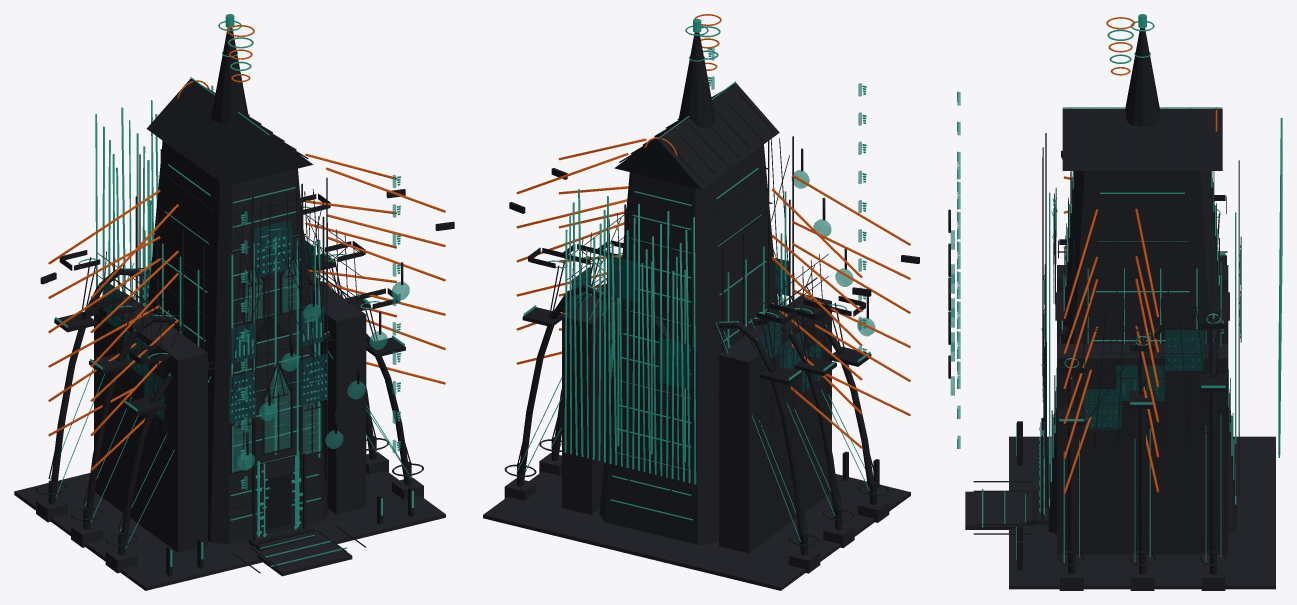
The model's file is analytics-ext-v2-draft-s75.glb.
3 renders of one model, left to right at view 1: azimuth 30°, elevation 25°; view 2: azimuth 150°, elevation 25°; view 3: azimuth 270°, elevation 25°, orthographic. The views are drawn at different scales.
Parts seen in each view (by area): view 1: analytics_ext_base_packed, analytics_s75_detail_combined_mesh, analytics_s75_emissive_combined_mesh, analytics_ext_glass_packed, analytics_s75_energy_combined_mesh, analytics_s75_holo_combined_mesh; view 2: analytics_ext_base_packed, analytics_s75_detail_combined_mesh, analytics_s75_emissive_combined_mesh, analytics_s75_energy_combined_mesh, analytics_ext_glass_packed, analytics_s75_holo_combined_mesh; view 3: analytics_ext_base_packed, analytics_s75_detail_combined_mesh, analytics_s75_emissive_combined_mesh, analytics_ext_glass_packed, analytics_s75_energy_combined_mesh, analytics_s75_holo_combined_mesh.
Part boxes in pixels (x1,y1,x2,y2): analytics_ext_base_packed: [14, 141, 445, 590]; analytics_s75_detail_combined_mesh: [36, 28, 454, 575]; analytics_s75_emissive_combined_mesh: [48, 14, 413, 566]; analytics_ext_glass_packed: [103, 220, 327, 423]; analytics_s75_energy_combined_mesh: [48, 25, 445, 470]; analytics_s75_holo_combined_mesh: [232, 174, 409, 489]; analytics_ext_base_packed: [483, 136, 910, 590]; analytics_s75_detail_combined_mesh: [504, 32, 919, 555]; analytics_s75_emissive_combined_mesh: [516, 19, 877, 542]; analytics_s75_energy_combined_mesh: [516, 14, 910, 448]; analytics_ext_glass_packed: [571, 255, 821, 392]; analytics_s75_holo_combined_mesh: [610, 47, 875, 378]; analytics_ext_base_packed: [965, 133, 1275, 590]; analytics_s75_detail_combined_mesh: [948, 28, 1236, 574]; analytics_s75_emissive_combined_mesh: [957, 14, 1282, 562]; analytics_ext_glass_packed: [1043, 187, 1241, 429]; analytics_s75_energy_combined_mesh: [1063, 17, 1217, 493]; analytics_s75_holo_combined_mesh: [950, 92, 1053, 448].
Size of the model in its own units: 13.2 by 16.71 by 10.15.
